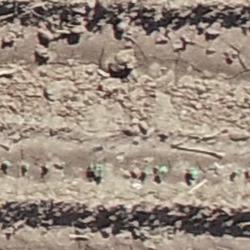cotton: (161, 166, 168, 174), (191, 170, 197, 178), (23, 163, 28, 169), (235, 170, 240, 175), (3, 161, 9, 165), (143, 168, 147, 174), (44, 164, 49, 168)
